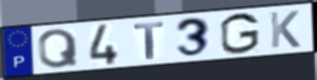3: (174, 16, 214, 60)
4: (87, 22, 121, 67)
G: (218, 12, 261, 56)
K: (268, 9, 302, 50)
Q: (36, 27, 81, 70)
T: (131, 20, 166, 61)
